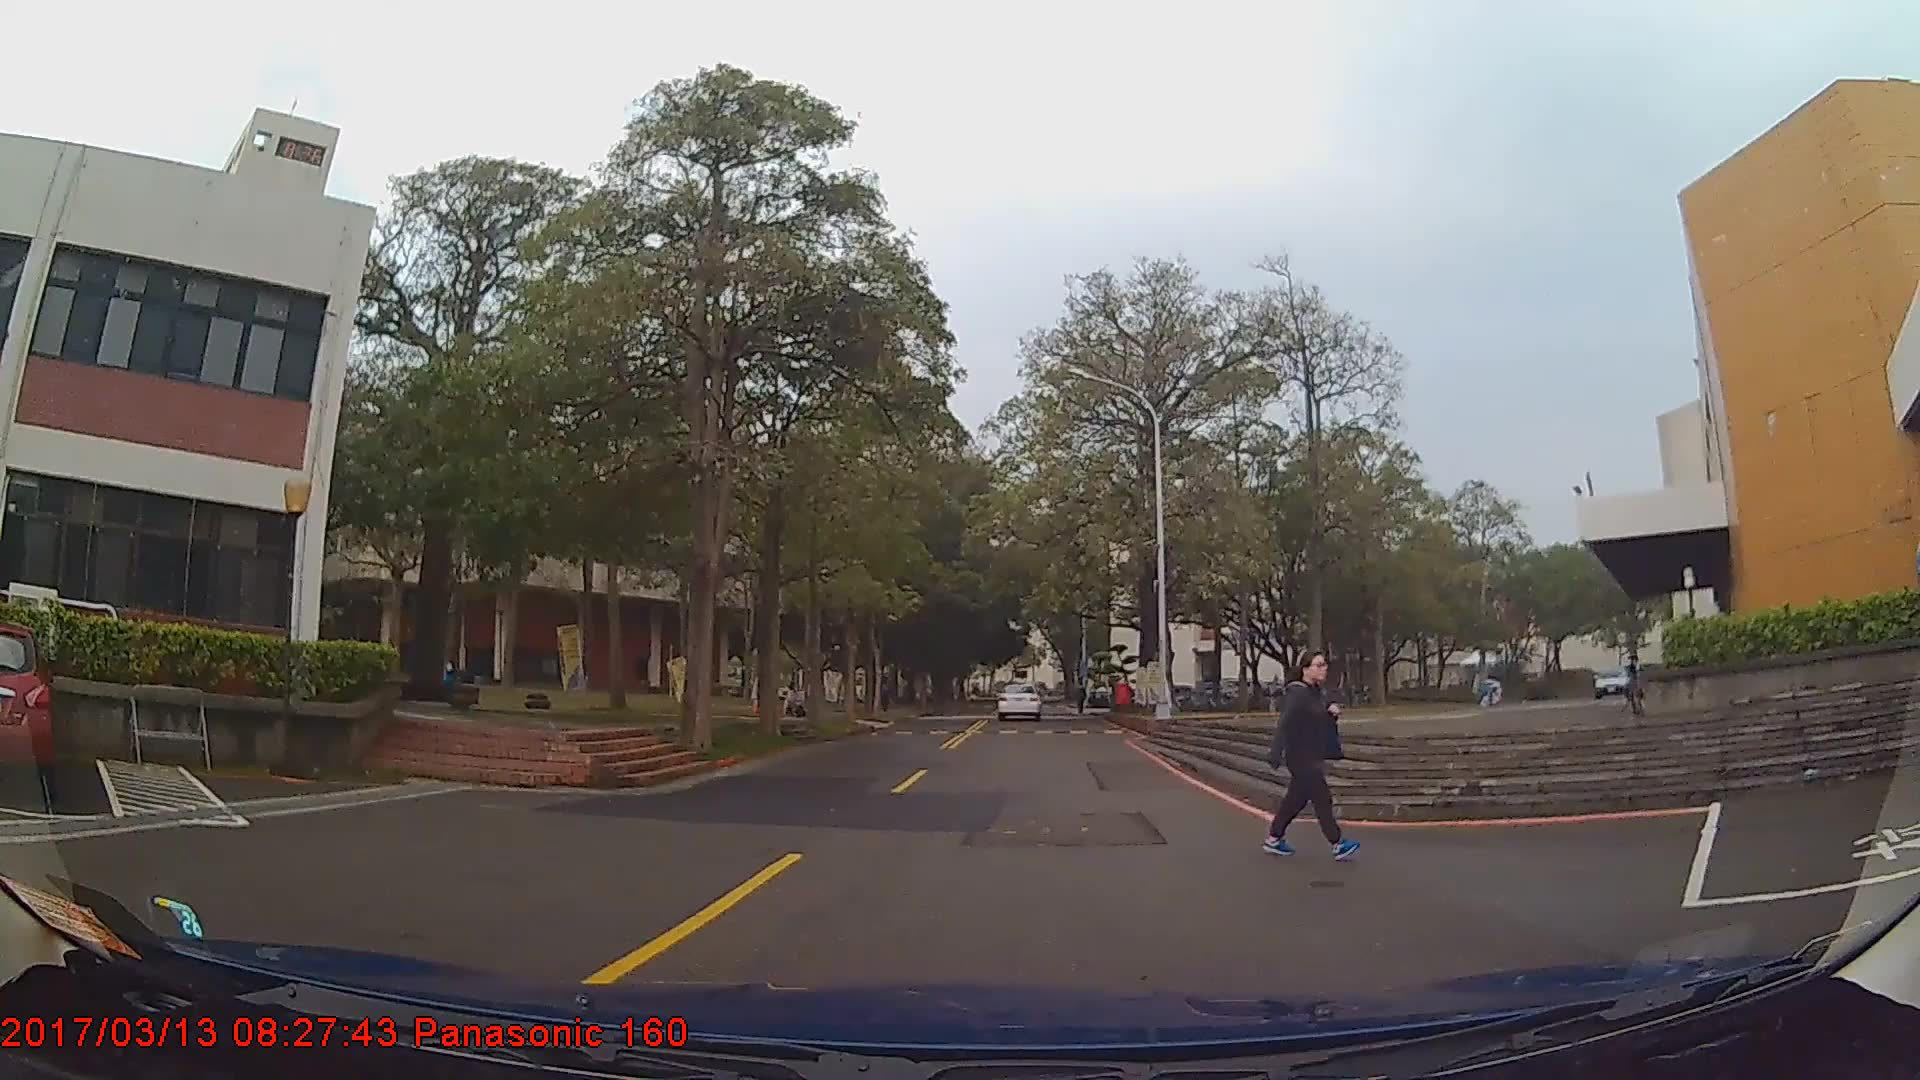pedestrian: (1259, 647, 1363, 859)
vehicle: (0, 615, 53, 801), (995, 682, 1041, 722)
